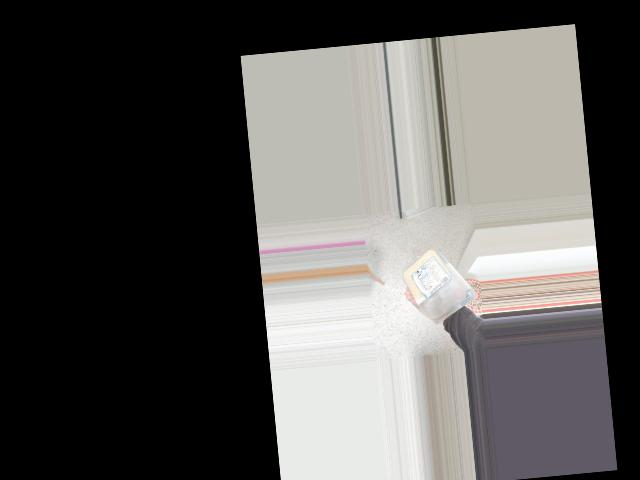cheese: (407, 246, 449, 315)
